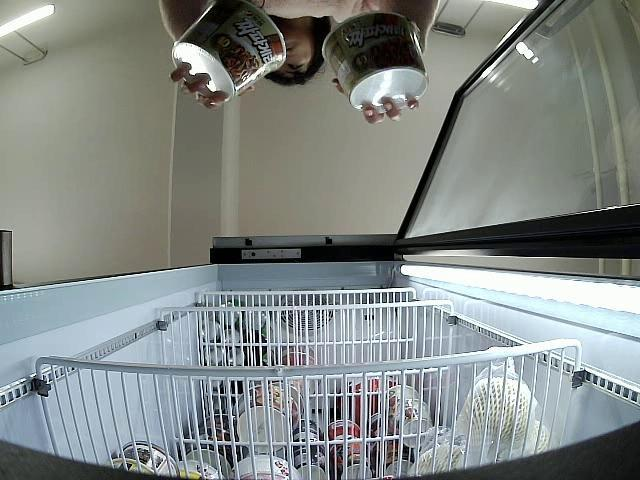03_chapagetti_L: (172, 0, 288, 100), (322, 10, 428, 112)
